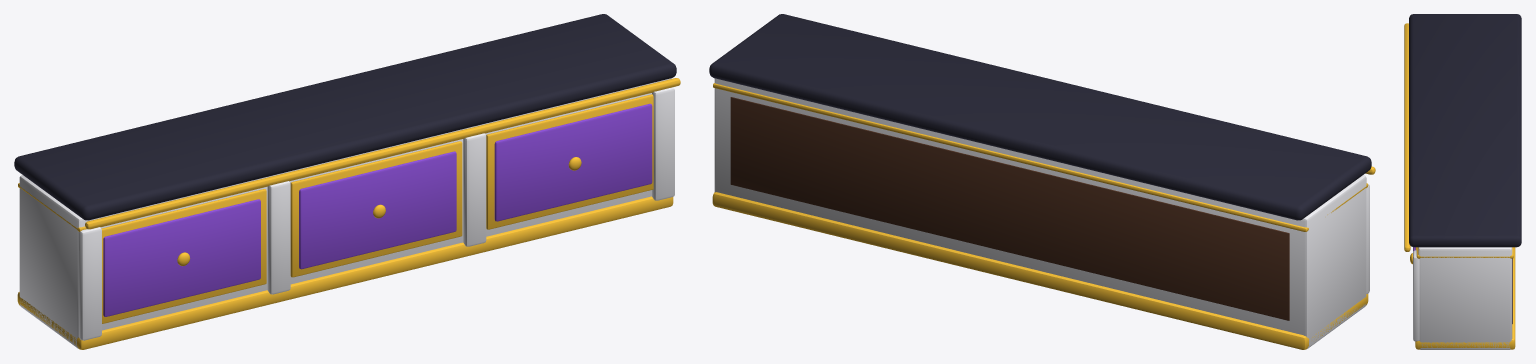
The model's file is PropCounterSection.fbx.
The picture shows the model from 3 angles, left to right: view 1: azimuth 30°, elevation 25°; view 2: azimuth 150°, elevation 25°; view 3: azimuth 270°, elevation 25°; orthographic projection. The views are drawn at different scales.
Parts seen in each view (by area): view 1: DarkMarble, Accent, Gold, Marble; view 2: DarkWood, DarkMarble, Marble, Gold; view 3: DarkMarble, Marble, Gold.
Boxes of the visible parts, x1,y1,x2,y2 form: DarkMarble: [14, 14, 676, 220]; Accent: [103, 103, 652, 316]; Gold: [17, 78, 680, 349]; Marble: [19, 78, 674, 348]; DarkWood: [730, 97, 1289, 320]; DarkMarble: [709, 14, 1371, 220]; Marble: [714, 78, 1369, 348]; Gold: [712, 83, 1375, 349]; DarkMarble: [1409, 14, 1521, 247]; Marble: [1413, 247, 1512, 349]; Gold: [1404, 23, 1515, 349].
Bounding box in the file's own units: 1700 × 400 × 375.
